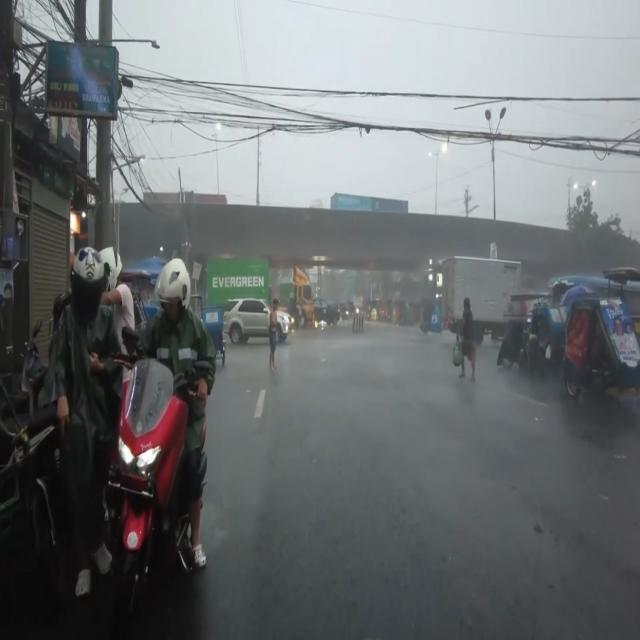full: (71, 243, 104, 320)
half: (151, 254, 192, 322)
